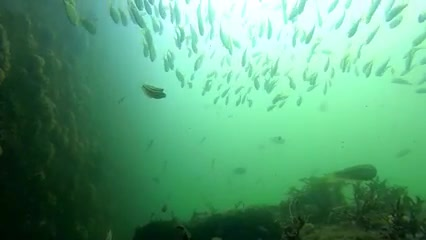smallfish: (107, 3, 121, 27)
